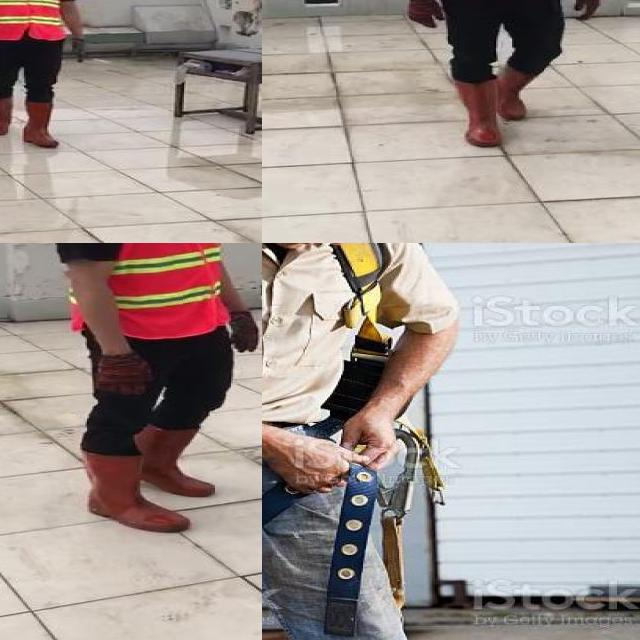boots: (76, 447, 188, 533), (138, 426, 220, 498), (450, 79, 501, 147), (22, 102, 65, 148), (494, 67, 528, 119), (0, 97, 13, 135)
hand_glove: (96, 350, 153, 396), (227, 314, 262, 354), (405, 0, 447, 28), (61, 36, 90, 64), (576, 0, 599, 23)
person: (41, 243, 262, 540), (388, 0, 614, 156), (0, 0, 100, 153)
vest: (56, 243, 227, 335), (0, 0, 66, 42)
